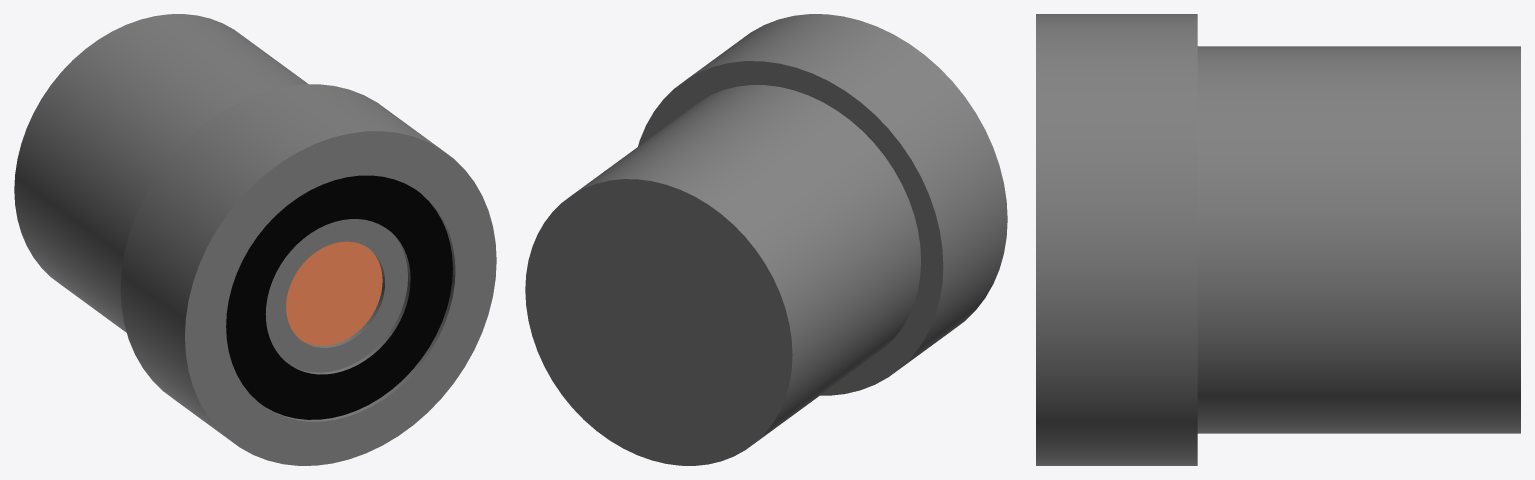
3 views of the same model, side by side, from view 1: azimuth 30°, elevation 25°; view 2: azimuth 150°, elevation 25°; view 3: azimuth 270°, elevation 25° (orthographic). The views are drawn at different scales.
Parts seen in each view (by area): view 1: mesh4053, mesh4050, mesh4051, mesh4048, mesh4046, mesh4044, mesh4049, mesh4047; view 2: mesh4054, mesh4053, mesh4051, mesh4052; view 3: mesh4053, mesh4051.
Boxes of the visible parts, x1,y1,x2,y2 form: mesh4053: [14, 14, 308, 332]; mesh4050: [185, 131, 496, 465]; mesh4051: [120, 84, 439, 439]; mesh4048: [226, 175, 452, 419]; mesh4046: [265, 219, 407, 372]; mesh4044: [286, 241, 382, 345]; mesh4049: [265, 194, 455, 421]; mesh4047: [290, 230, 410, 374]; mesh4054: [525, 179, 792, 465]; mesh4053: [574, 85, 920, 443]; mesh4051: [688, 14, 1007, 369]; mesh4052: [638, 61, 943, 395]; mesh4053: [1197, 46, 1520, 433]; mesh4051: [1036, 14, 1197, 465].
Size of the model in its own units: 0.014 by 0.014 by 0.015.
